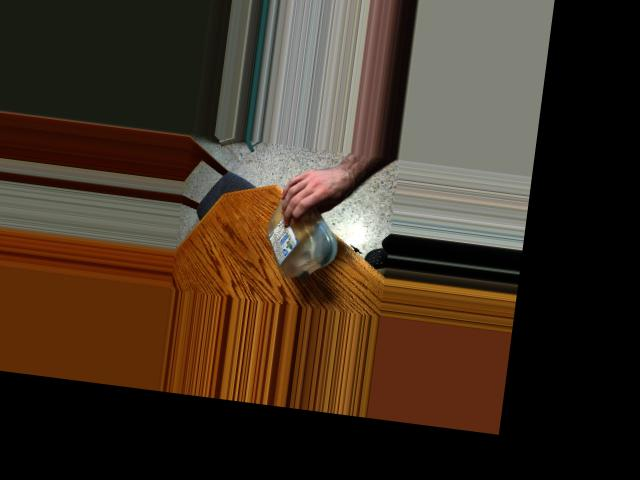cheese: (256, 183, 342, 285)
